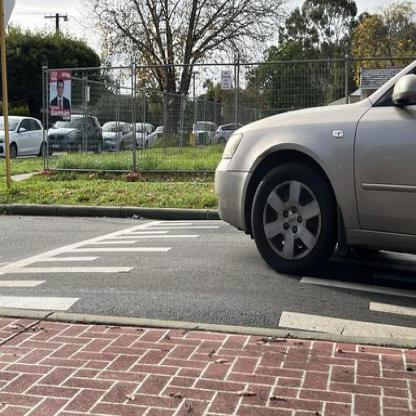Tire: (251, 161, 339, 274)
